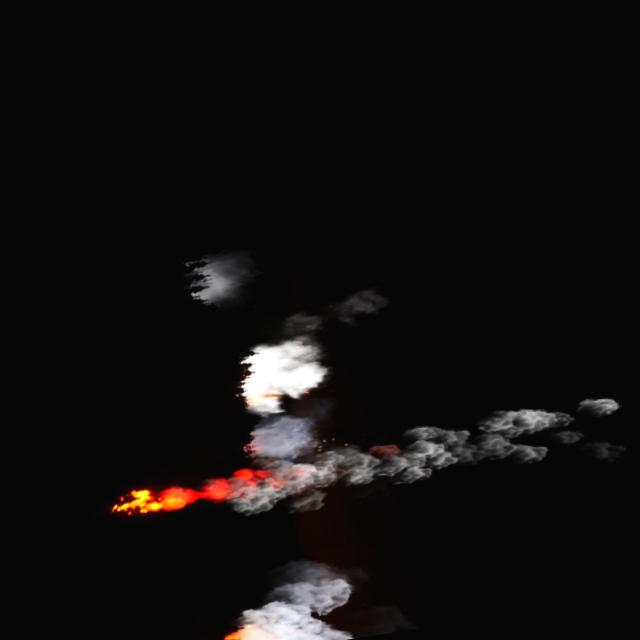fire: (114, 481, 178, 522), (216, 628, 256, 640)
smoke: (157, 254, 640, 535), (247, 550, 365, 640), (188, 246, 254, 314)
